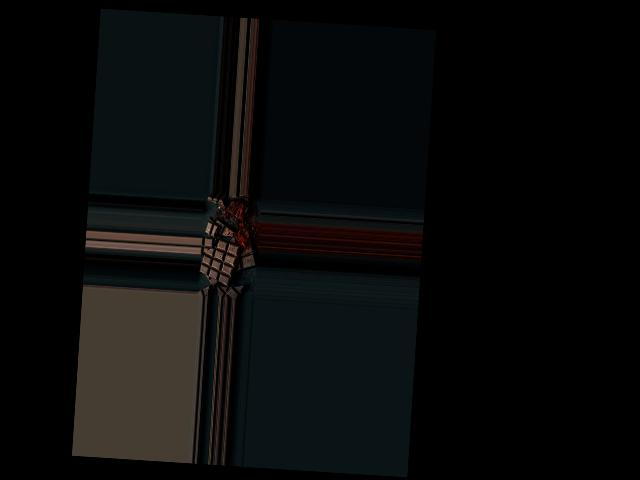chocolate: (198, 238, 241, 288)
